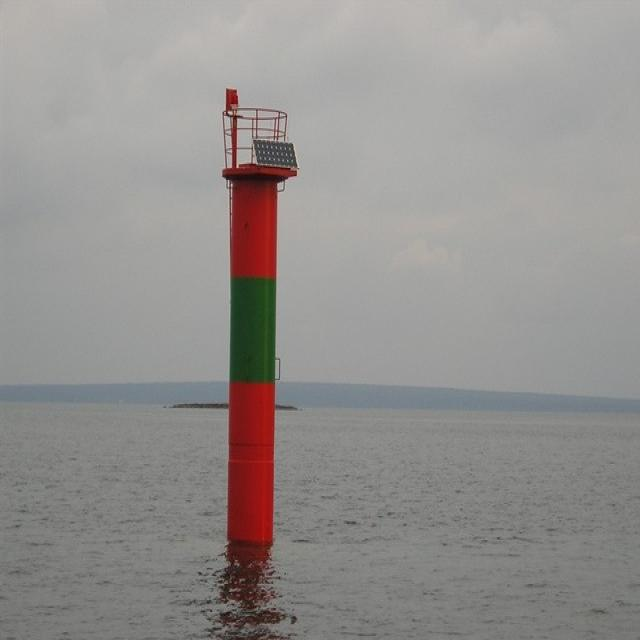marque: (185, 48, 312, 573)
